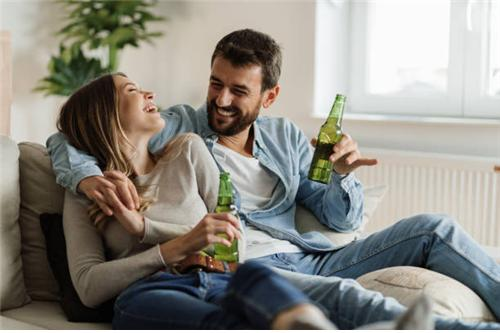alcohol: (206, 172, 244, 263), (309, 93, 346, 186)
